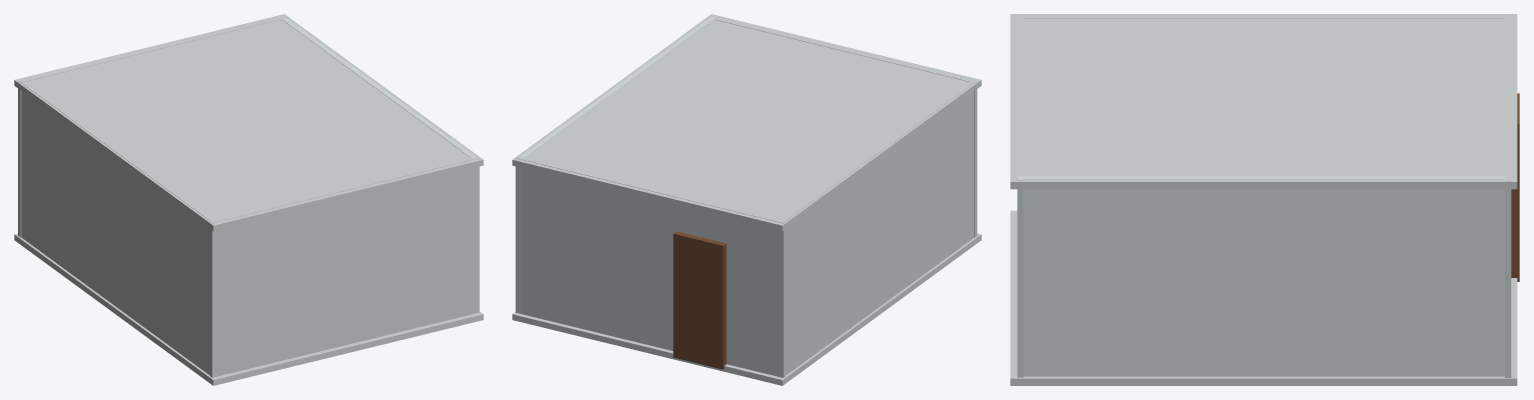
File: KitchenV2.fbx
3 renders of one model, left to right at view 1: azimuth 30°, elevation 25°; view 2: azimuth 150°, elevation 25°; view 3: azimuth 270°, elevation 25°, orthographic. The views are drawn at different scales.
Visible parts, largest first — view 1: Ceiling, Wall_006, Wall_001, Floor, Wall_005, Wall_002, Wall_003; view 2: Ceiling, Wall_001, Wall_003, Wall_002, Door, Floor, Wall_004, Wall_005, Wall_006; view 3: Wall_005, Ceiling, Floor, Wall_006, Wall_003, Wall_001, Door.
Boxes of the visible parts, x1=… form: Ceiling: x1=14, y1=14, x2=483, y2=231; Wall_006: x1=210, y1=156, x2=479, y2=377; Wall_001: x1=21, y1=81, x2=216, y2=375; Floor: x1=14, y1=233, x2=483, y2=385; Wall_005: x1=281, y1=18, x2=476, y2=158; Wall_002: x1=18, y1=67, x2=78, y2=237; Wall_003: x1=124, y1=15, x2=288, y2=56; Ceiling: x1=512, y1=14, x2=981, y2=231; Wall_001: x1=778, y1=80, x2=975, y2=377; Wall_003: x1=515, y1=156, x2=680, y2=350; Wall_002: x1=725, y1=207, x2=785, y2=377; Door: x1=673, y1=231, x2=726, y2=369; Floor: x1=512, y1=233, x2=981, y2=385; Wall_004: x1=678, y1=196, x2=771, y2=256; Wall_005: x1=517, y1=17, x2=715, y2=314; Wall_006: x1=708, y1=16, x2=977, y2=237; Wall_005: x1=1018, y1=176, x2=1504, y2=376; Ceiling: x1=1010, y1=14, x2=1517, y2=189; Floor: x1=1010, y1=210, x2=1517, y2=385; Wall_006: x1=1017, y1=14, x2=1023, y2=377; Wall_003: x1=1505, y1=80, x2=1511, y2=377; Wall_001: x1=1018, y1=15, x2=1504, y2=18; Door: x1=1511, y1=93, x2=1519, y2=281.
Size of the model in its own units: 6.11 by 3.47 by 7.84.
